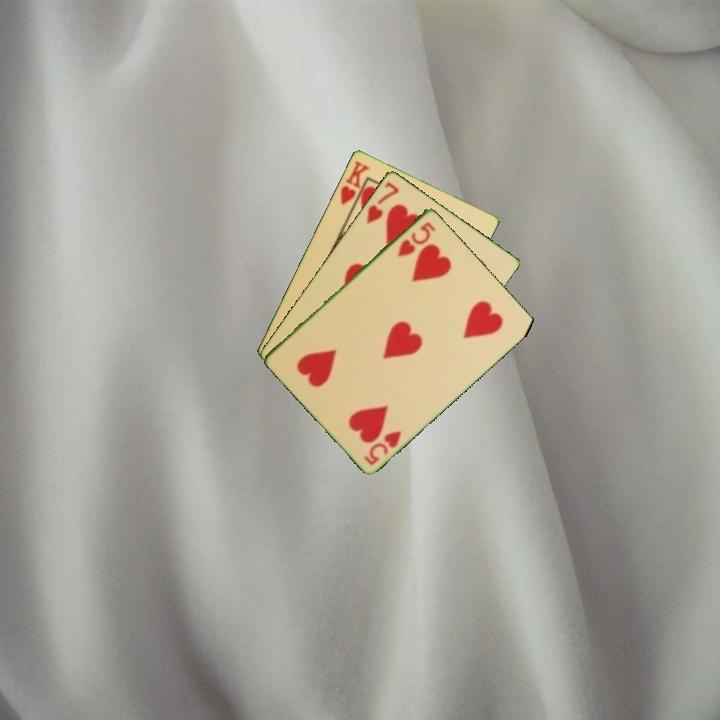5h: (394, 218, 438, 260), (360, 427, 404, 468)
7h: (363, 178, 402, 226)
Kh: (337, 157, 372, 214)
